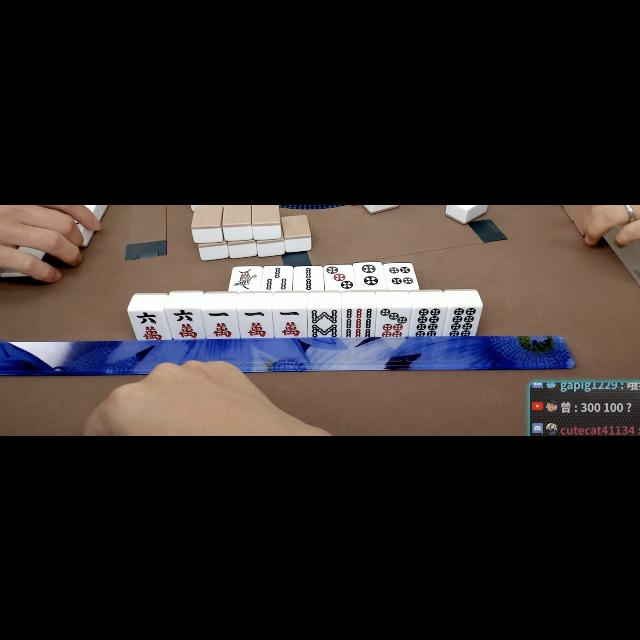b1: (229, 266, 261, 290)
b2: (294, 266, 322, 290)
b3: (262, 266, 292, 290)
b8: (308, 306, 340, 339)
b9: (342, 305, 374, 339)
c1: (239, 308, 271, 338), (205, 308, 237, 338), (274, 308, 306, 337)
c6: (131, 308, 167, 340), (168, 307, 202, 338)
d2: (355, 262, 385, 288)
d3: (324, 264, 354, 290)
d4: (386, 262, 416, 288)
d7: (377, 306, 409, 338)
d8: (412, 305, 444, 337), (447, 305, 479, 337)
